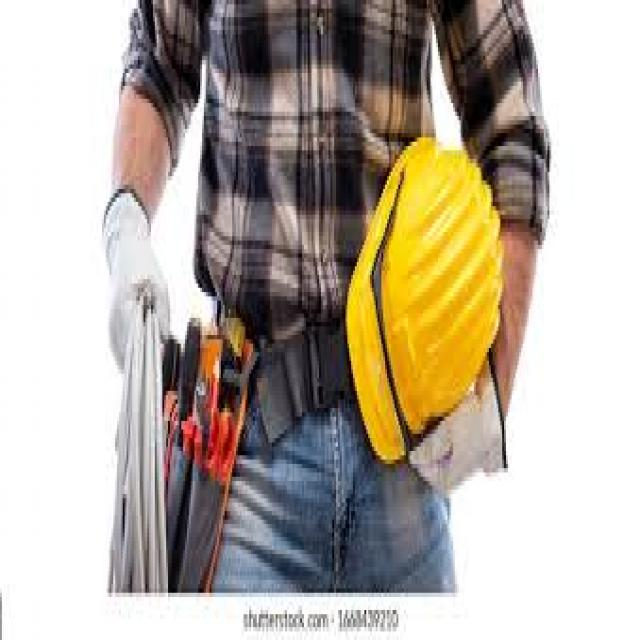Safety-Helmet: (340, 125, 515, 468)
